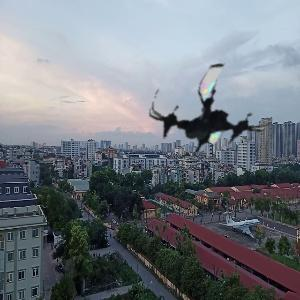drone: (152, 58, 268, 174)
